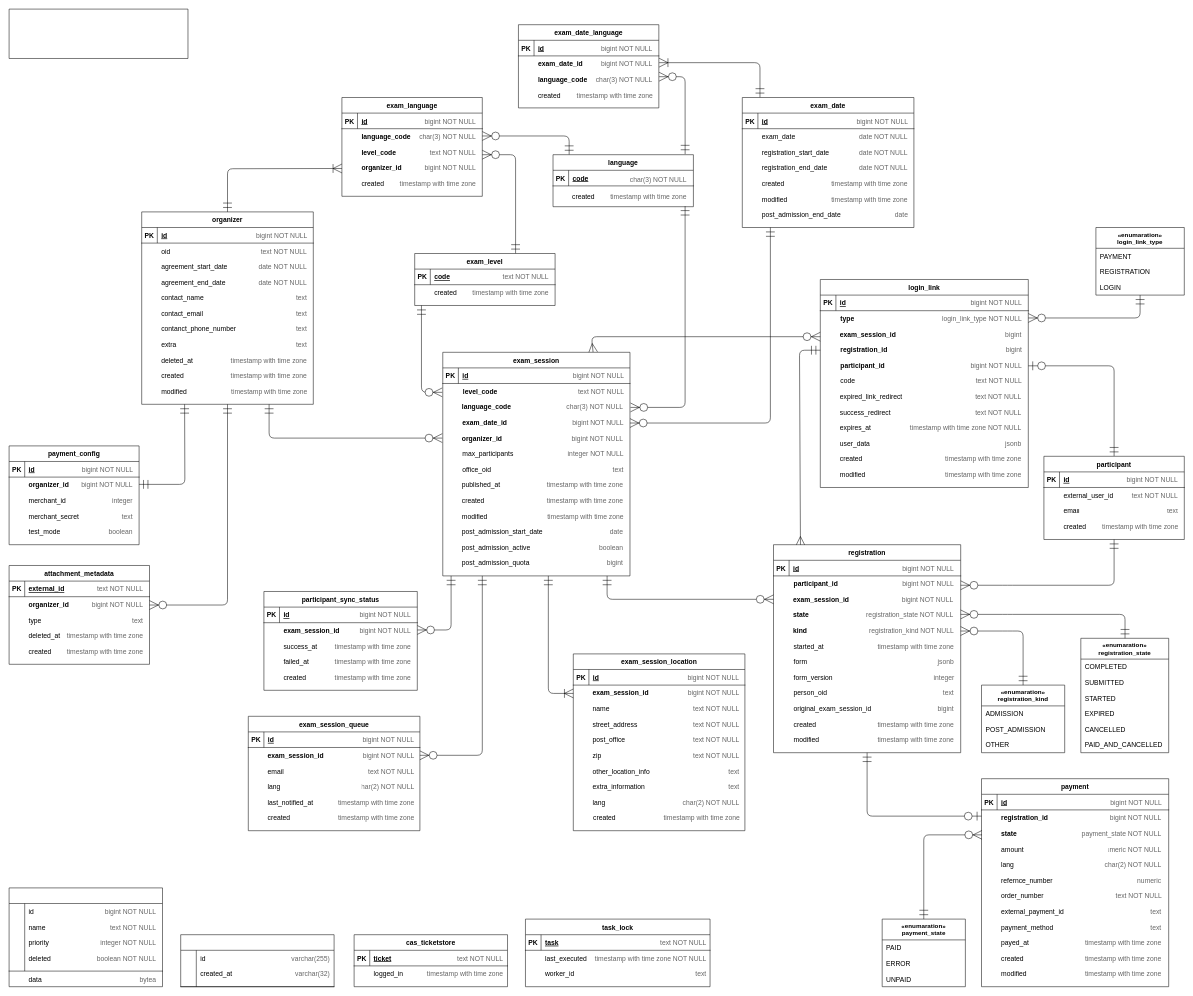
Image size: 1193x996. Some labels were removed from this diagram. The centre of each missing label's shape, as x and y in pixels:
Database: YKI v. 1.0.0: point 98,33
pgqueues: point 85,937
ragtime_migrations: point 257,960
